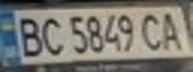4: (103, 10, 121, 53)
5: (63, 11, 87, 54)
8: (84, 11, 106, 54)
9: (118, 11, 139, 52)
A: (154, 9, 187, 51)
B: (9, 14, 45, 57)
C: (36, 14, 66, 56), (136, 10, 166, 52)
